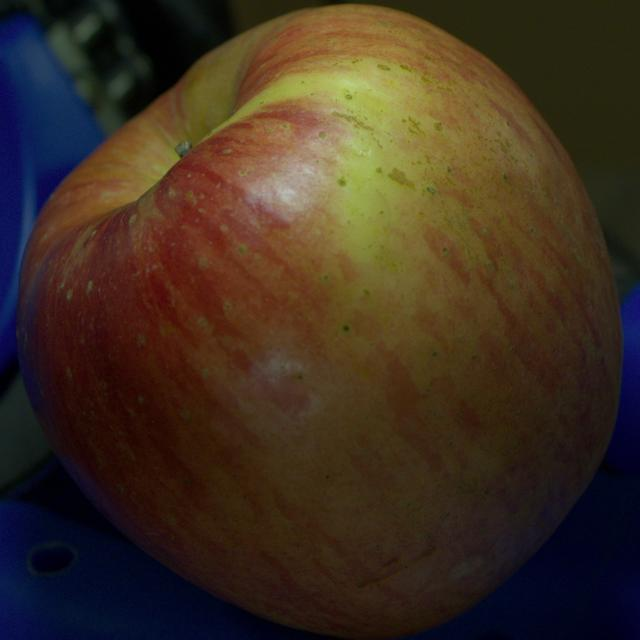apple: (17, 5, 621, 638)
